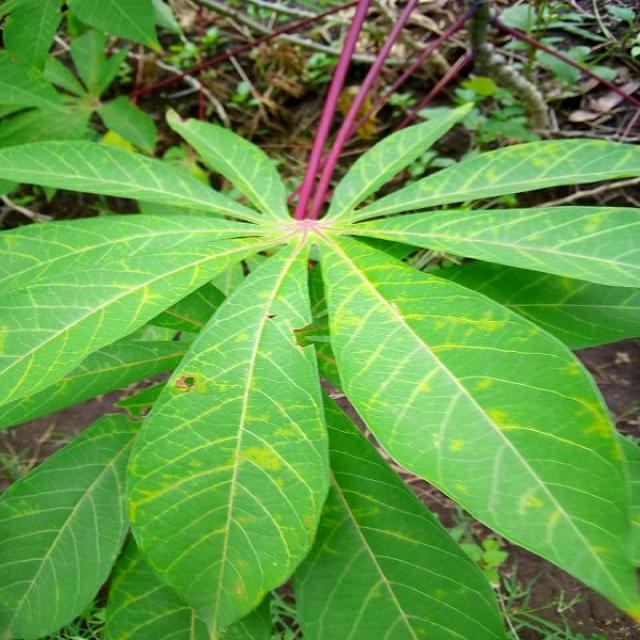cassava leaf: (1, 2, 638, 637), (314, 228, 638, 623), (124, 240, 331, 636), (292, 380, 506, 638), (0, 409, 142, 637)
